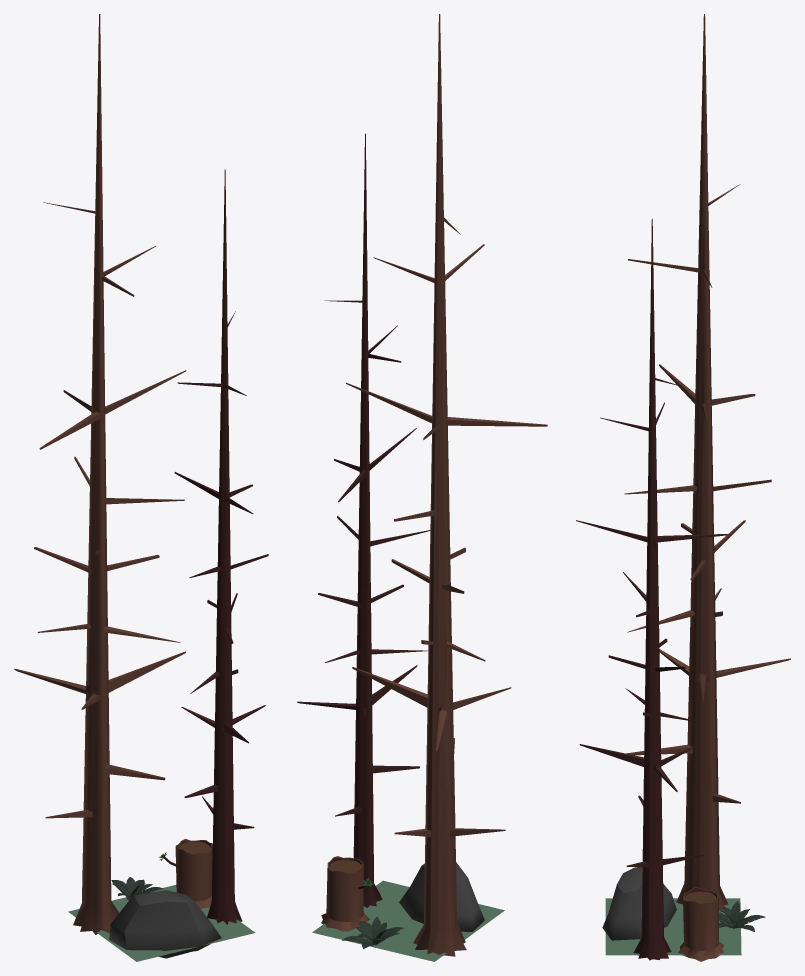
The model's file is innerBorder_old.obj.
3 renders of one model, left to right at view 1: azimuth 30°, elevation 25°; view 2: azimuth 150°, elevation 25°; view 3: azimuth 270°, elevation 25°, orthographic. The views are drawn at different scales.
Bounding box in the file's own units: 50.5 × 189 × 40.78.
